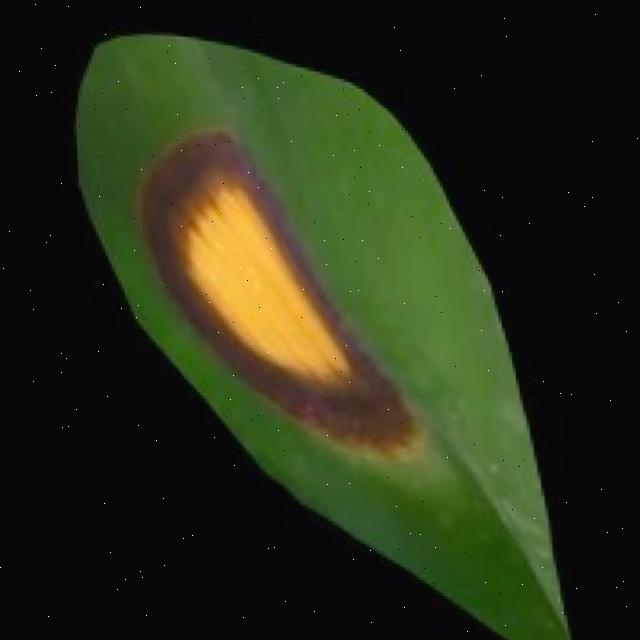sunburn: (127, 119, 422, 466)
